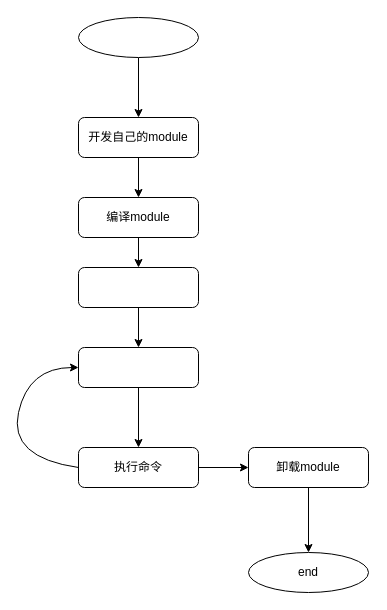
The diagram is 387 pixels wide and 610 high, and some of its shapes have lost their labels. The centre of each missing label's shape, as x and y in pixels:
"start" belongs at [138,37].
"加载module" belongs at [138,287].
"输入命令" belongs at [138,367].
